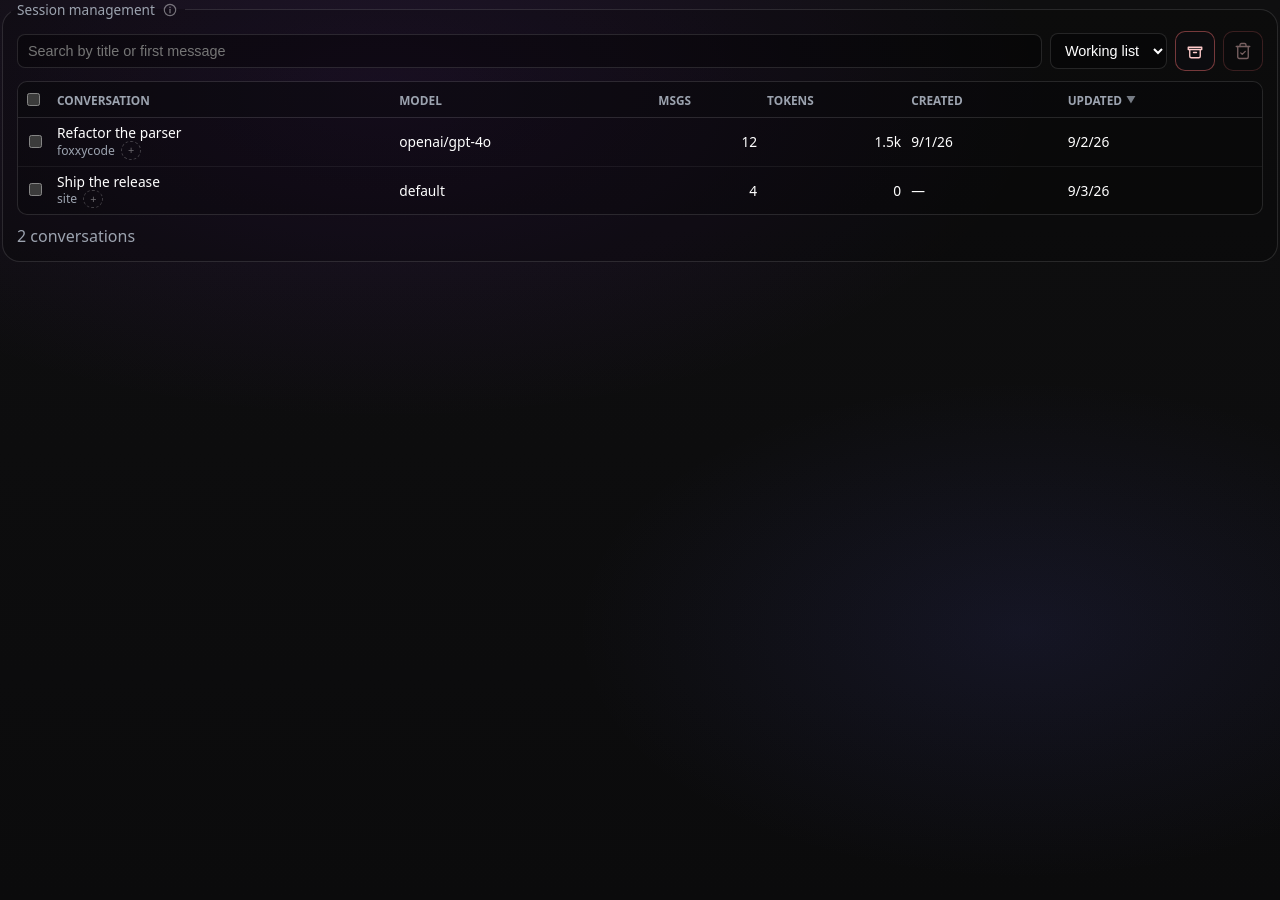
a session that could not be removed is reported instead of hidden
Expected: the row with test id "sessions-manager-row-sess_one" is shown, left=18, top=118, right=1262, bottom=166
Step 1. Click the checkbox with test id "sessions-manager-pick-sess_one" → (36, 141), box left=29, top=135, right=42, bottom=148
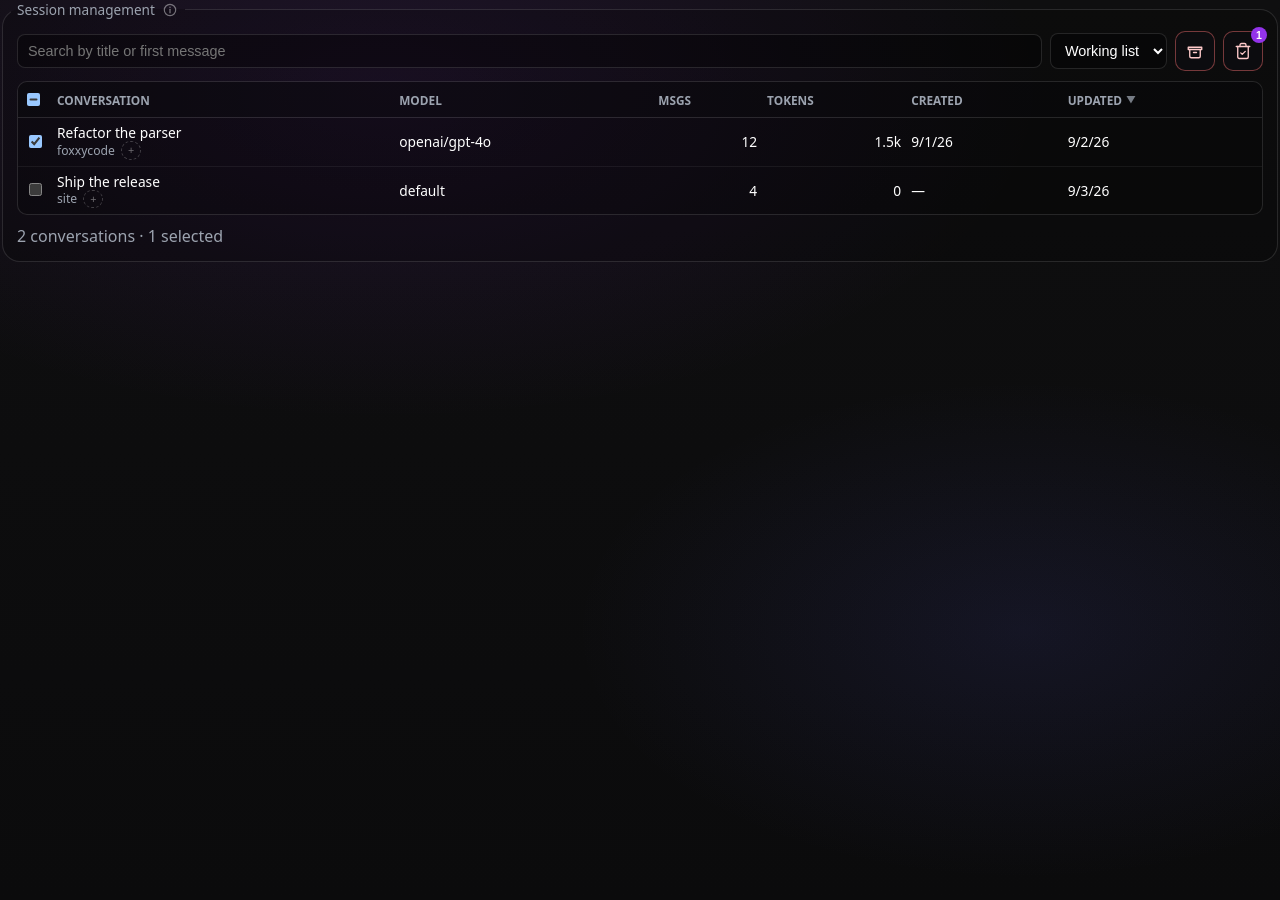
Step 2. Click the button with test id "sessions-manager-delete-selected" → (1243, 51), box left=1223, top=31, right=1263, bottom=71
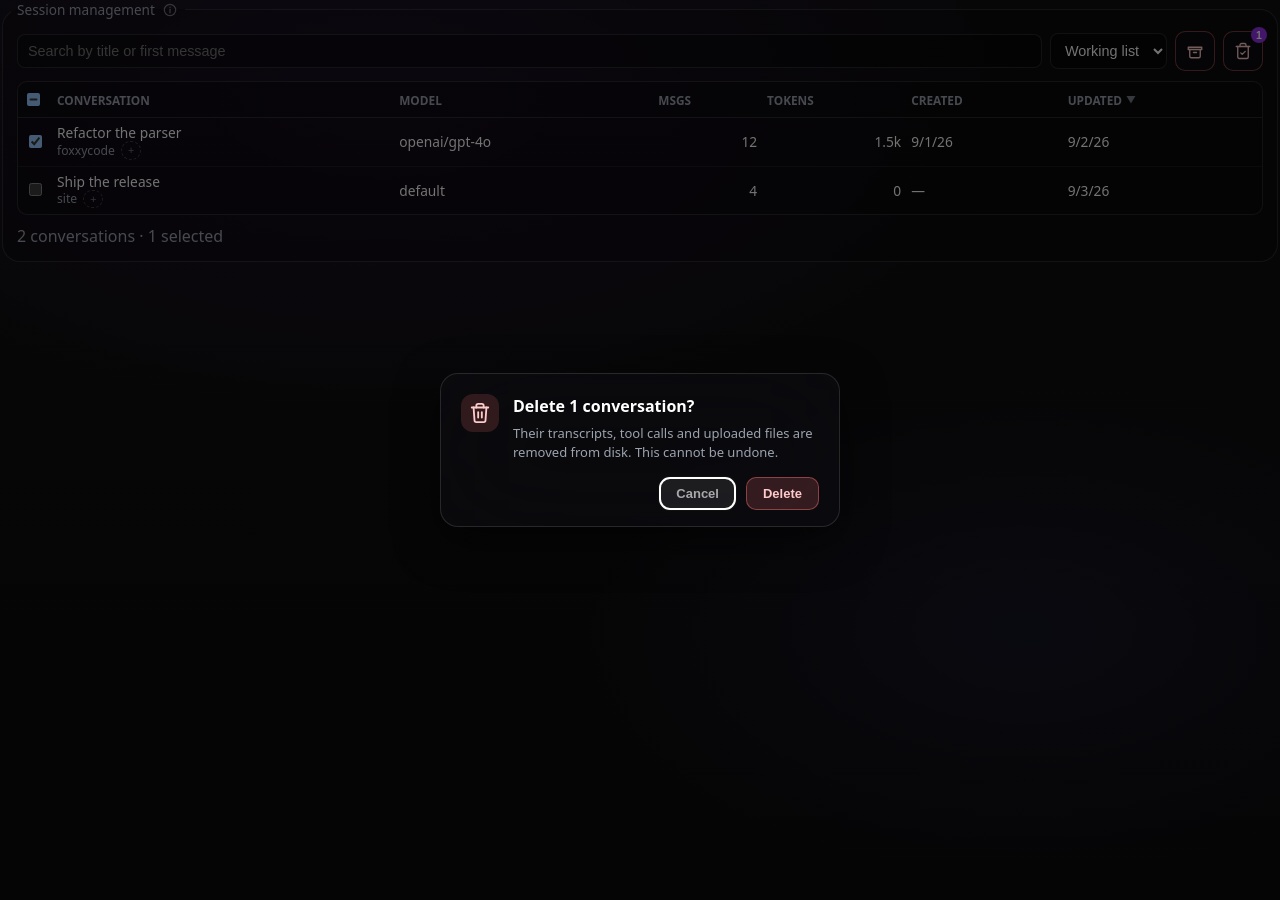
Step 3. Click the button "Delete" → (782, 493), box left=746, top=476, right=819, bottom=510
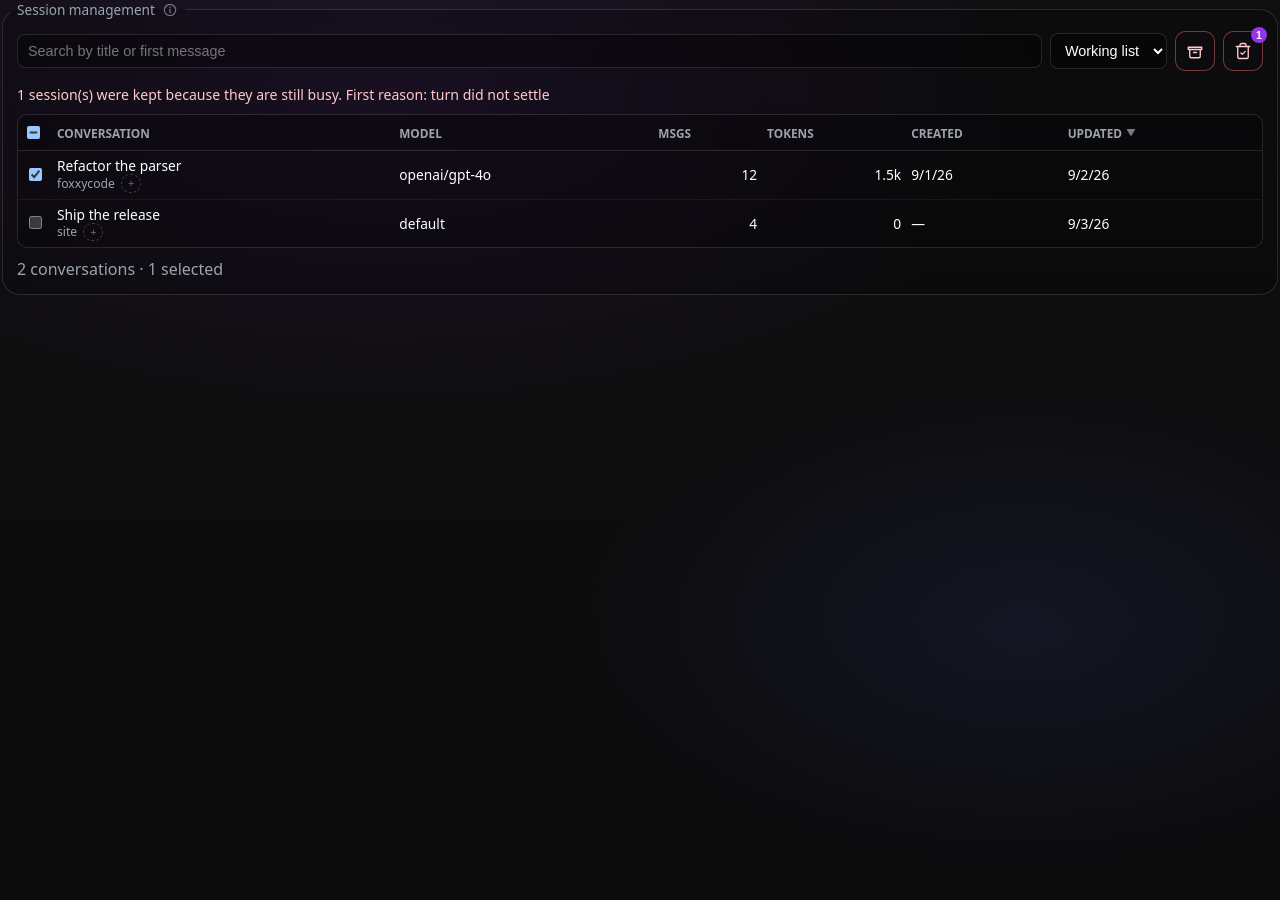
Expected: the row with test id "sessions-manager-row-sess_one" is shown, left=18, top=150, right=1262, bottom=199
Expected: the text with test id "sessions-manager-error" shows "turn did not settle", left=17, top=85, right=550, bottom=104
